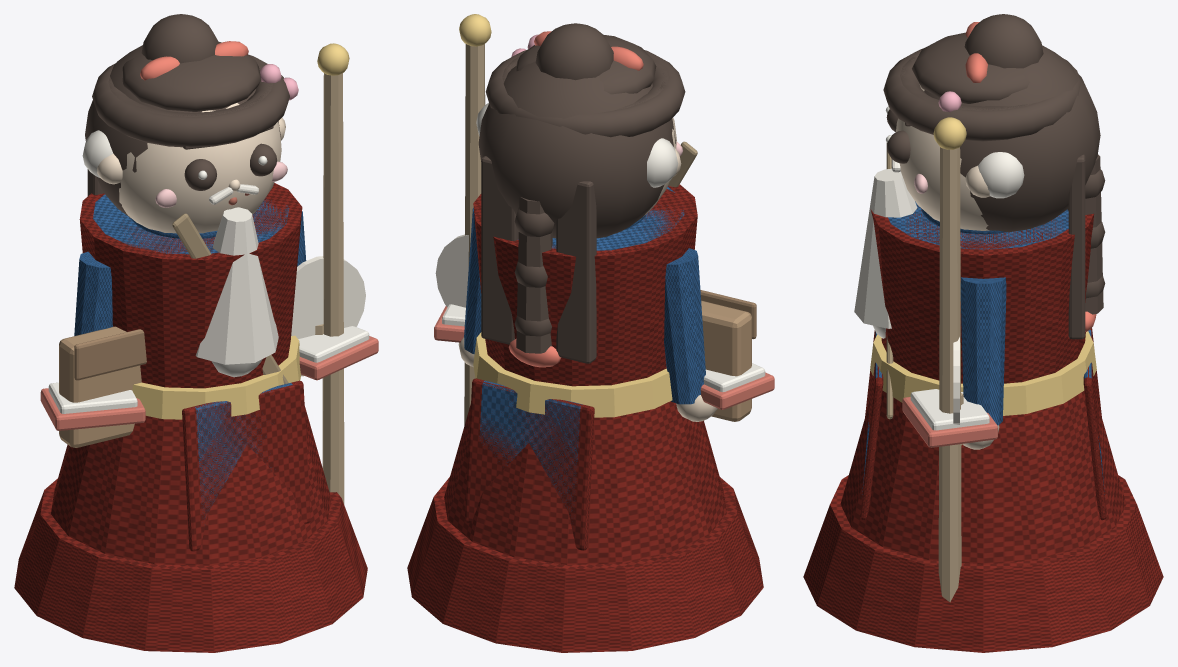
The model's file is characters.glb.
3 views of the same model, side by side, from view 1: azimuth 30°, elevation 25°; view 2: azimuth 150°, elevation 25°; view 3: azimuth 270°, elevation 25° (orthographic).
Visible parts, largest first — view 1: Teacher_skirt.001, Teacher_skirt, Teacher_torso, Teacher_panel_f, Student_M1_head, Teacher_staff, Teacher_beard, Teacher_khan, Student_M1_khan_top, Teacher_belt, Student_M3_bag, Student_M1_panel_f (+18 smaller); view 2: Teacher_skirt.001, Teacher_skirt, Student_F1_hair, Teacher_torso, Teacher_panel_b, Student_M1_panel_b, Student_F3_hair_lock_L, Teacher_belt, Student_M1_arm_L, Teacher_khan, Student_F3_hair_lock_R, Student_M3_bag (+20 smaller); view 3: Teacher_skirt.001, Teacher_skirt, Teacher_torso, Student_F1_hair, Teacher_staff, Student_M1_arm_R, Teacher_khan, Teacher_belt, Student_M1_khan_top, Teacher_beard, Student_M1_head, Student_F1_bun (+14 smaller).
Boxes of the visible parts, x1,y1,x2,y2 form: Teacher_skirt.001: [14, 478, 367, 652]; Teacher_skirt: [51, 406, 331, 565]; Teacher_torso: [79, 183, 302, 388]; Teacher_panel_f: [182, 380, 310, 551]; Student_M1_head: [119, 103, 281, 233]; Teacher_staff: [322, 73, 344, 504]; Teacher_beard: [195, 207, 278, 364]; Teacher_khan: [92, 54, 289, 147]; Student_M1_khan_top: [122, 42, 261, 111]; Teacher_belt: [132, 335, 300, 419]; Student_M3_bag: [59, 326, 141, 447]; Student_M1_panel_f: [195, 383, 292, 517]; Teacher_skirt.001: [407, 477, 763, 652]; Teacher_skirt: [444, 401, 726, 564]; Student_F1_hair: [478, 61, 675, 238]; Teacher_torso: [473, 184, 697, 386]; Teacher_panel_b: [465, 378, 594, 550]; Student_M1_panel_b: [479, 380, 582, 515]; Student_F3_hair_lock_L: [556, 181, 596, 363]; Teacher_belt: [473, 332, 672, 417]; Student_M1_arm_L: [664, 248, 705, 404]; Teacher_khan: [485, 49, 685, 137]; Student_F3_hair_lock_R: [481, 156, 518, 344]; Student_M3_bag: [701, 300, 751, 421]; Teacher_skirt.001: [803, 475, 1163, 652]; Teacher_skirt: [840, 391, 1126, 564]; Teacher_torso: [870, 206, 1094, 383]; Student_F1_hair: [924, 45, 1100, 231]; Teacher_staff: [938, 147, 961, 602]; Student_M1_arm_R: [960, 277, 1006, 425]; Teacher_khan: [883, 48, 1080, 141]; Teacher_belt: [870, 331, 1096, 415]; Student_M1_khan_top: [912, 32, 1029, 103]; Teacher_beard: [854, 168, 917, 328]; Student_M1_head: [896, 84, 989, 230]; Student_F1_bun: [964, 14, 1043, 68].
Size of the model in its own units: 1.13 by 1.86 by 1.08.
Materials: 52 (14 with a texture image).
